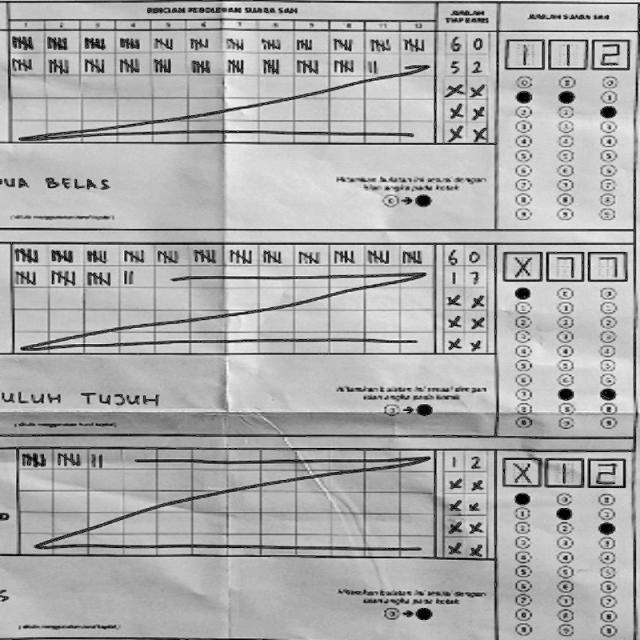Suara: (496, 35, 633, 69), (496, 249, 629, 283), (500, 454, 626, 488)
